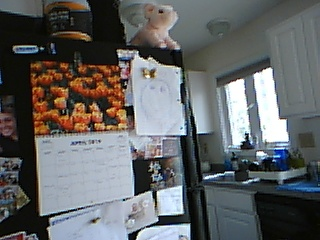piggy: (129, 2, 182, 50)
